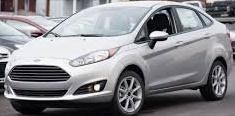Cars: (4, 2, 231, 115)
